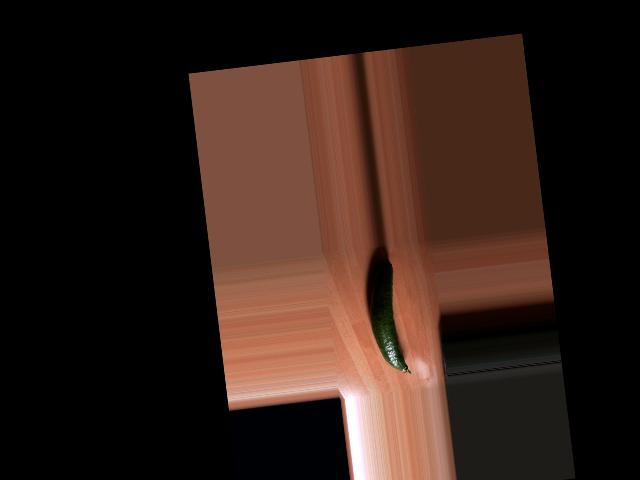cucumber: (362, 256, 411, 378)
